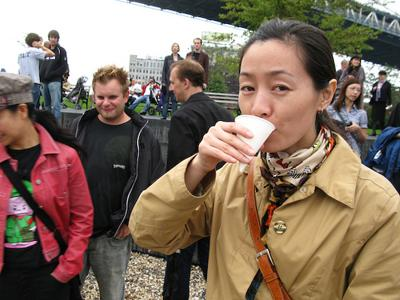person: (128, 16, 400, 300)
